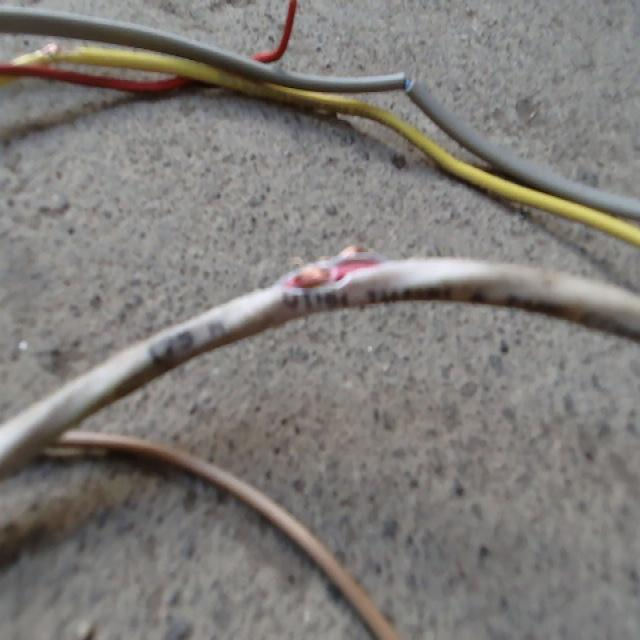-: (272, 240, 394, 295)
